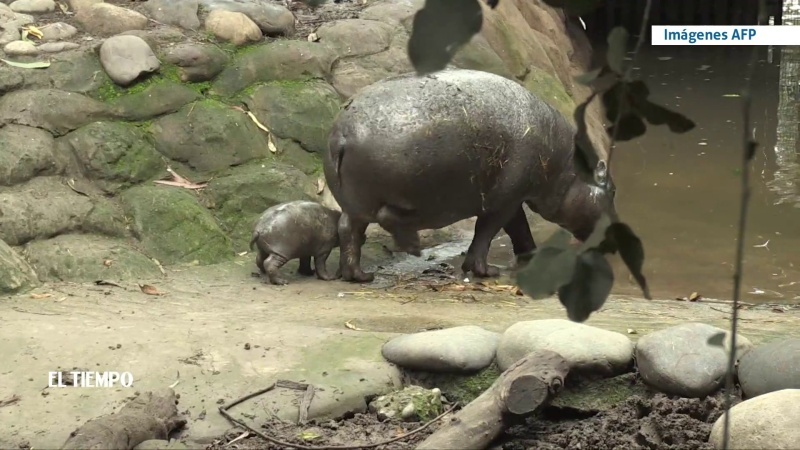hipopotamo: (325, 71, 639, 297), (244, 189, 376, 294)
